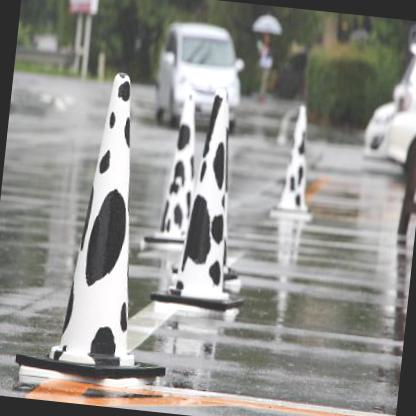cone: (7, 60, 196, 394), (146, 81, 266, 311), (139, 81, 203, 247), (265, 99, 326, 222)
